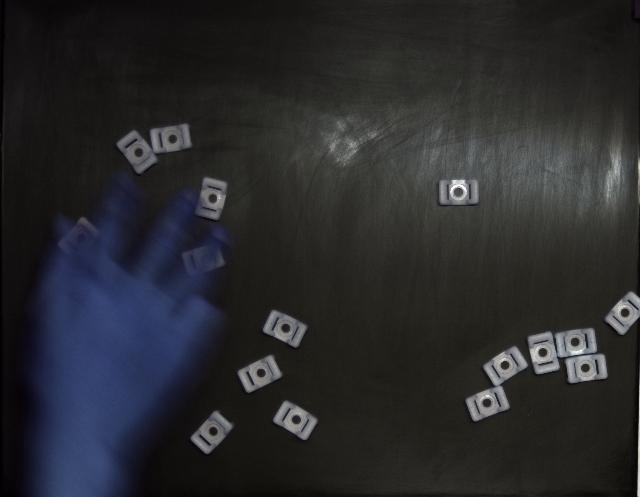first_side: (190, 411, 234, 455), (484, 346, 528, 386), (262, 310, 308, 348), (238, 355, 282, 394), (274, 401, 318, 440), (465, 386, 510, 422), (604, 292, 640, 335), (528, 332, 560, 375), (565, 354, 608, 384), (554, 329, 598, 358), (150, 124, 192, 154), (439, 179, 479, 206)
